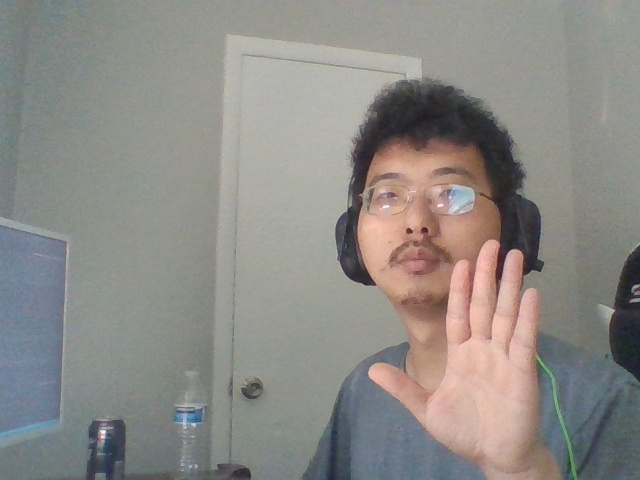ThankYou: (368, 239, 541, 467)
